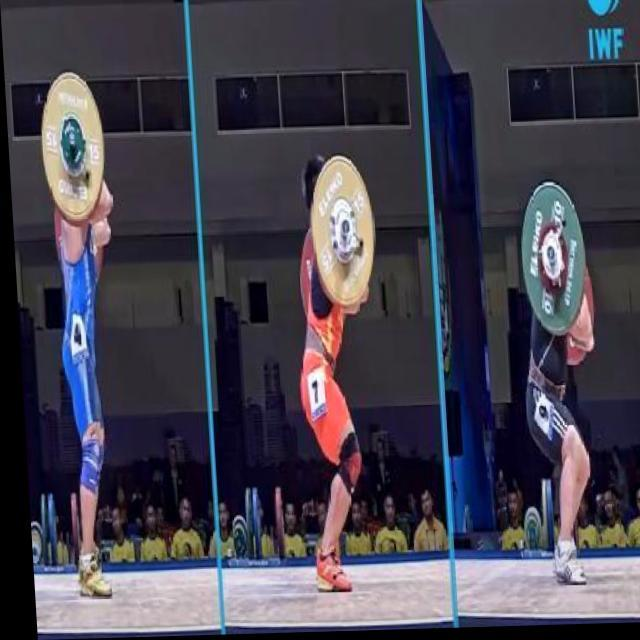barbell: (300, 155, 382, 315), (510, 183, 590, 347), (31, 69, 112, 229)
